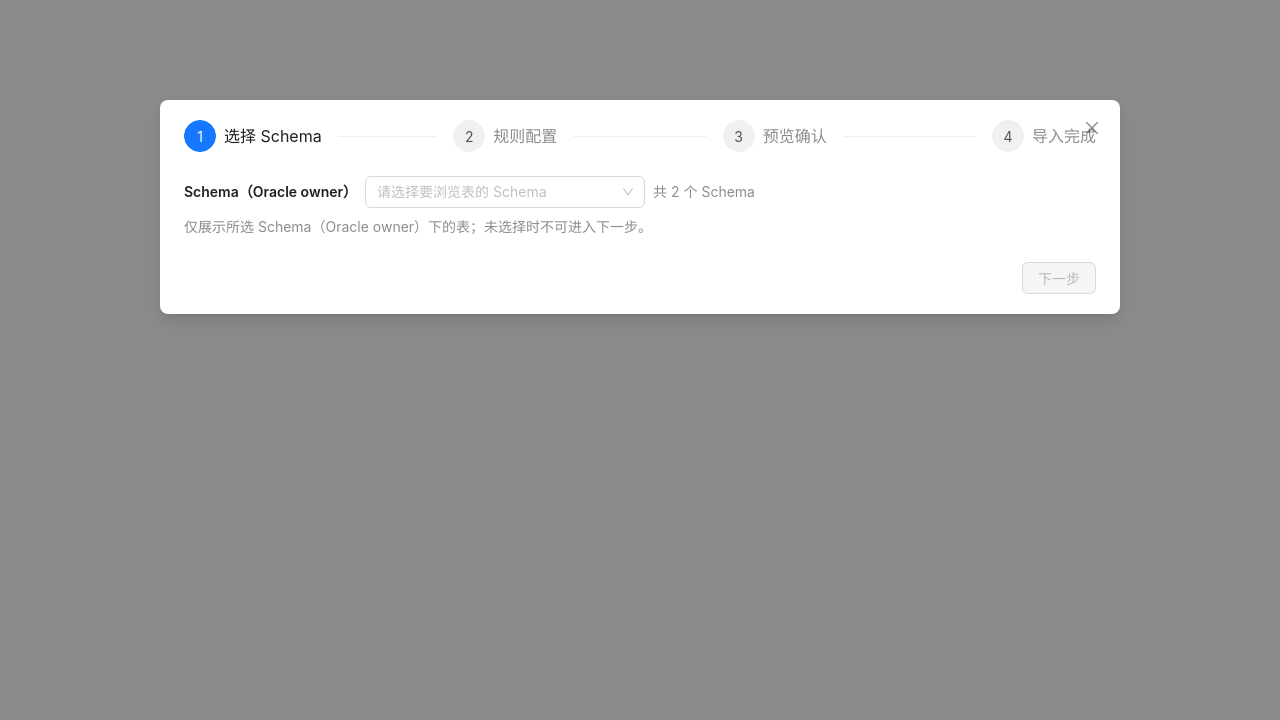
ImportWizard — schema（Oracle owner）选择步 › 选定 owner 加载失败：下一步禁用、选择复位；重选同 owner 重试恢复
The width and height of the screenshot is (1280, 720).
Expected: the text "Schema（Oracle owner）" is shown, [184,183,357,200]
Step 1. Click the element showing "请选择要浏览表的 Schema" → [505, 192], box [365,176,645,208]
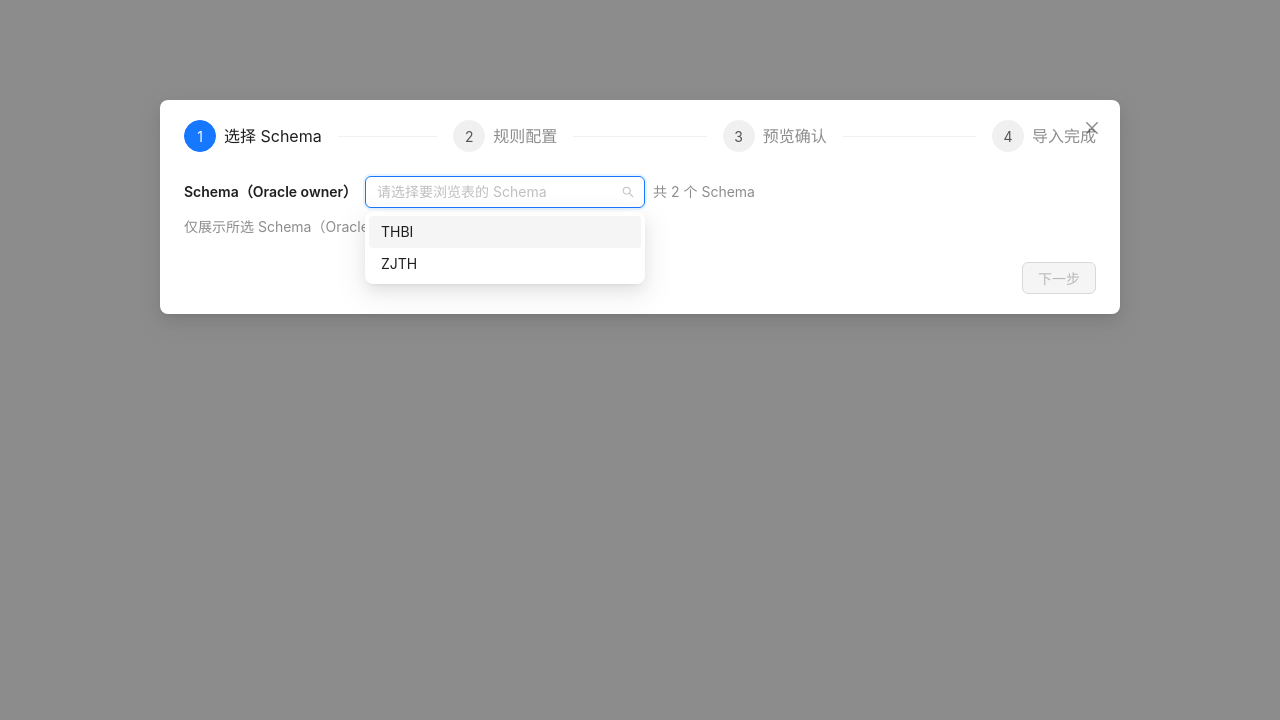
Step 2. Click the element titled "THBI" → [505, 232], box [369,216,641,248]
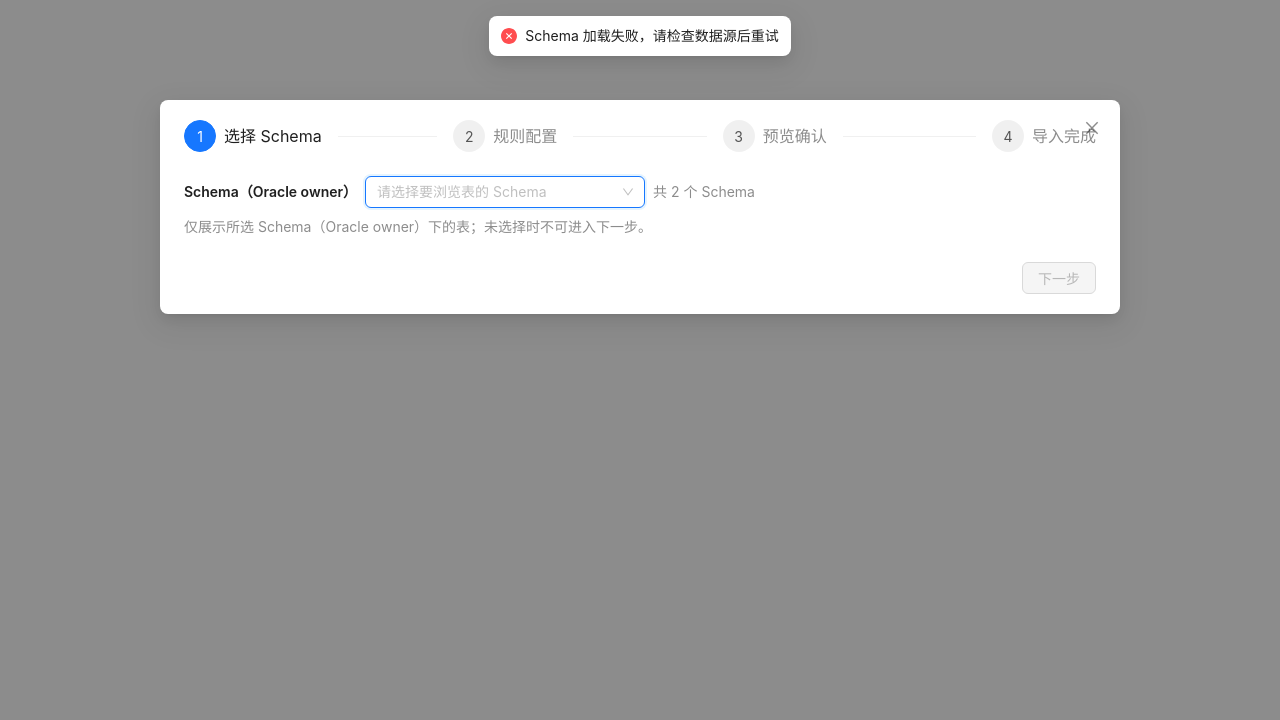
Expected: the button "下一步" is disabled, [1022,262,1096,294]
Step 3. Click the element showing "请选择要浏览表的 Schema" → [505, 192], box [365,176,645,208]
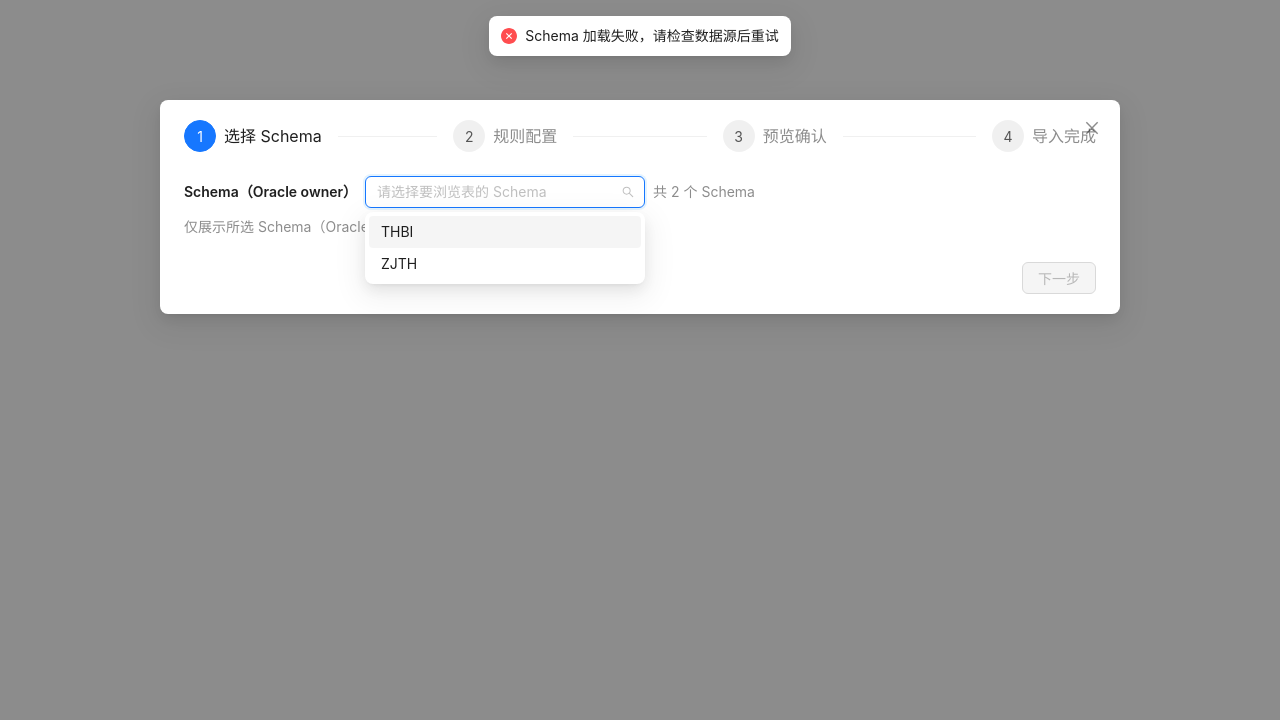
Step 4. Click the element titled "THBI" → [505, 232], box [369,216,641,248]
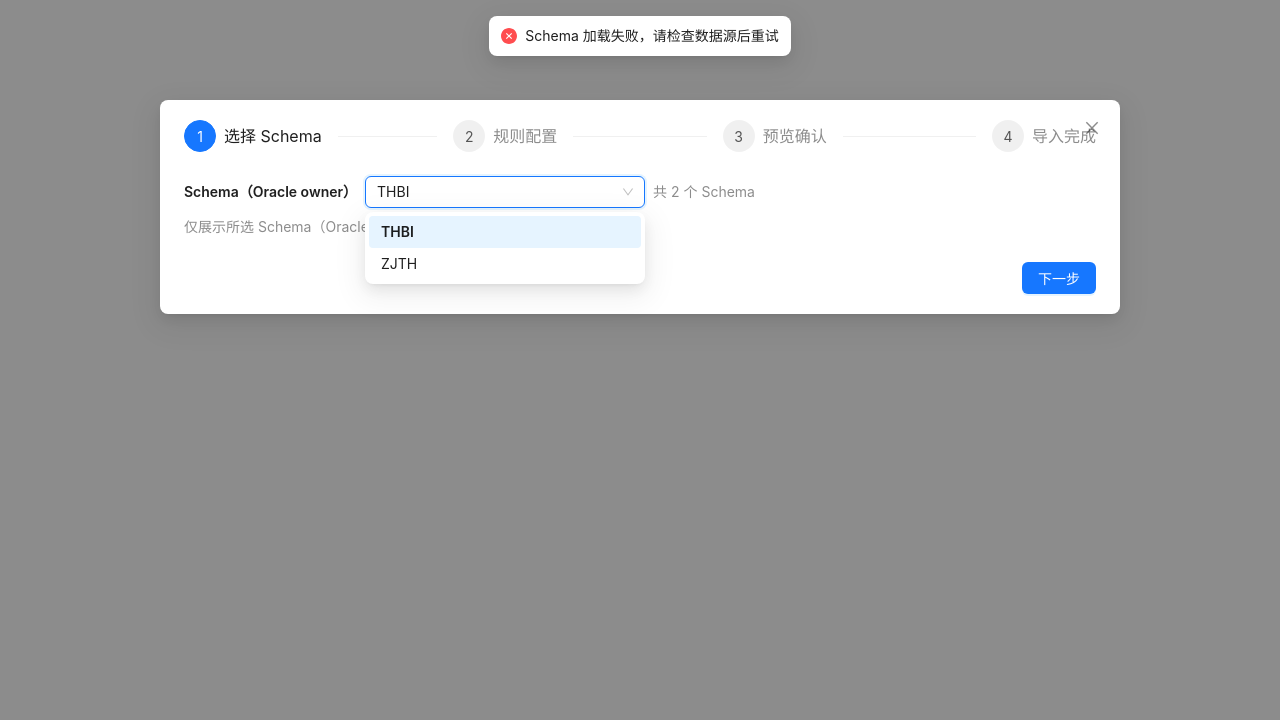
Now the button "下一步" is enabled
Step 5. Click the button "下一步" → [1059, 278], box [1022,262,1096,294]
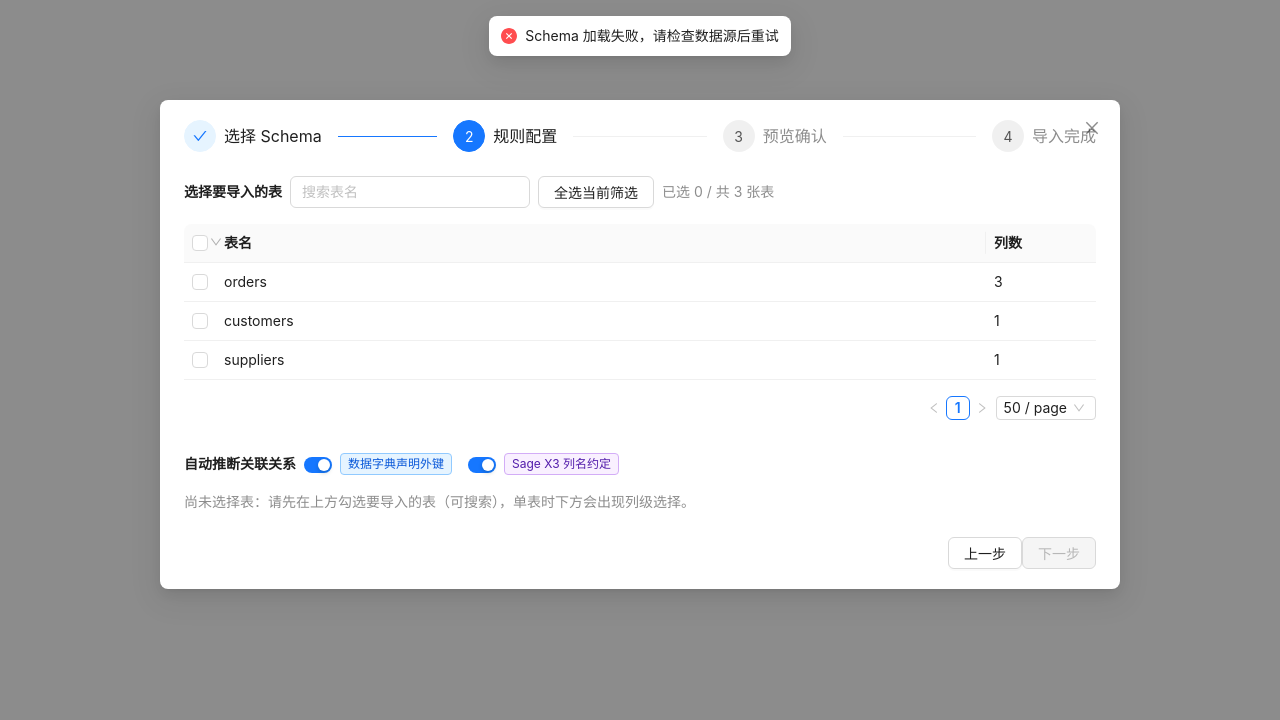
Now the text "orders" is shown, box [216,263,986,302]
